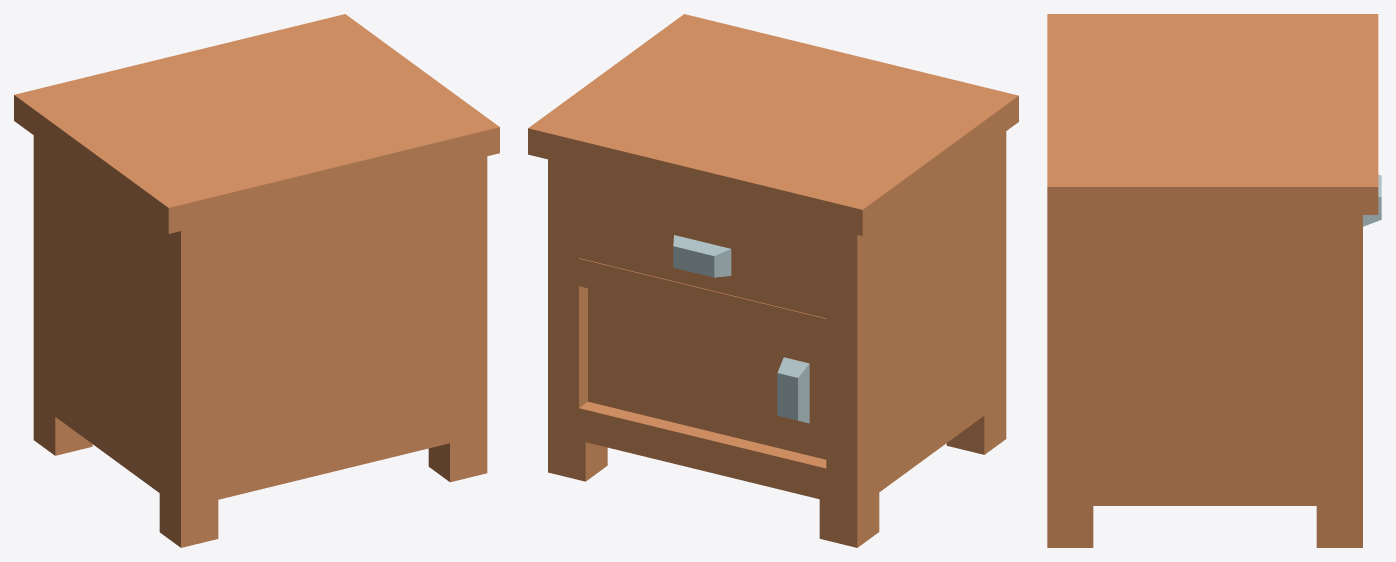
The model's file is cabinetBedDrawer.obj.
3 views of the same model, side by side, from view 1: azimuth 30°, elevation 25°; view 2: azimuth 150°, elevation 25°; view 3: azimuth 270°, elevation 25° (orthographic). The views are drawn at different scales.
Parts seen in each view (by area): view 1: cabinetBedDrawer; view 2: cabinetBedDrawer, door, drawer; view 3: cabinetBedDrawer.
Part boxes in pixels (x1,y1,x2,y2): cabinetBedDrawer: [14, 14, 499, 547]; cabinetBedDrawer: [528, 14, 1018, 547]; door: [588, 288, 826, 459]; drawer: [579, 192, 826, 318]; cabinetBedDrawer: [1047, 14, 1378, 547].
Size of the model in its own units: 0.266 by 0.2632 by 0.2173.
